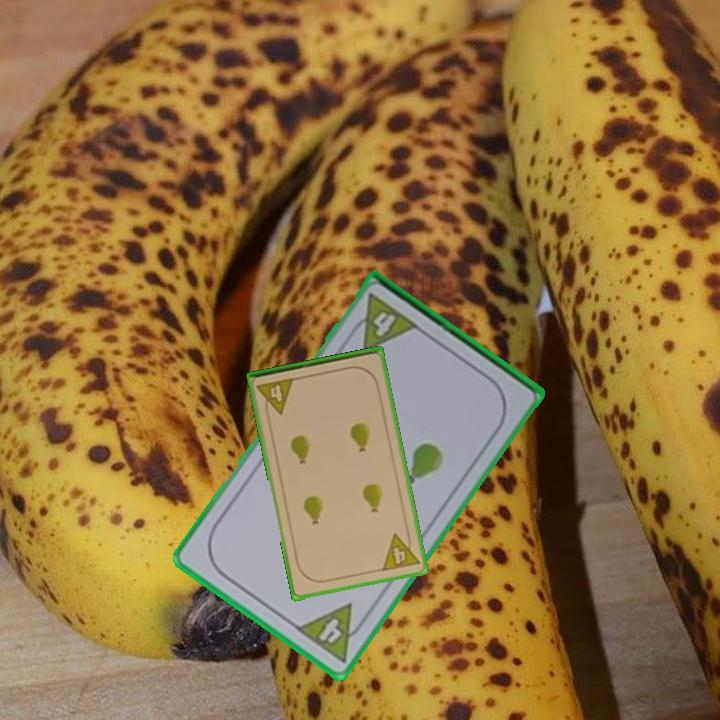4p: (292, 600, 372, 666), (344, 290, 422, 355), (378, 528, 422, 574), (253, 374, 297, 419)
